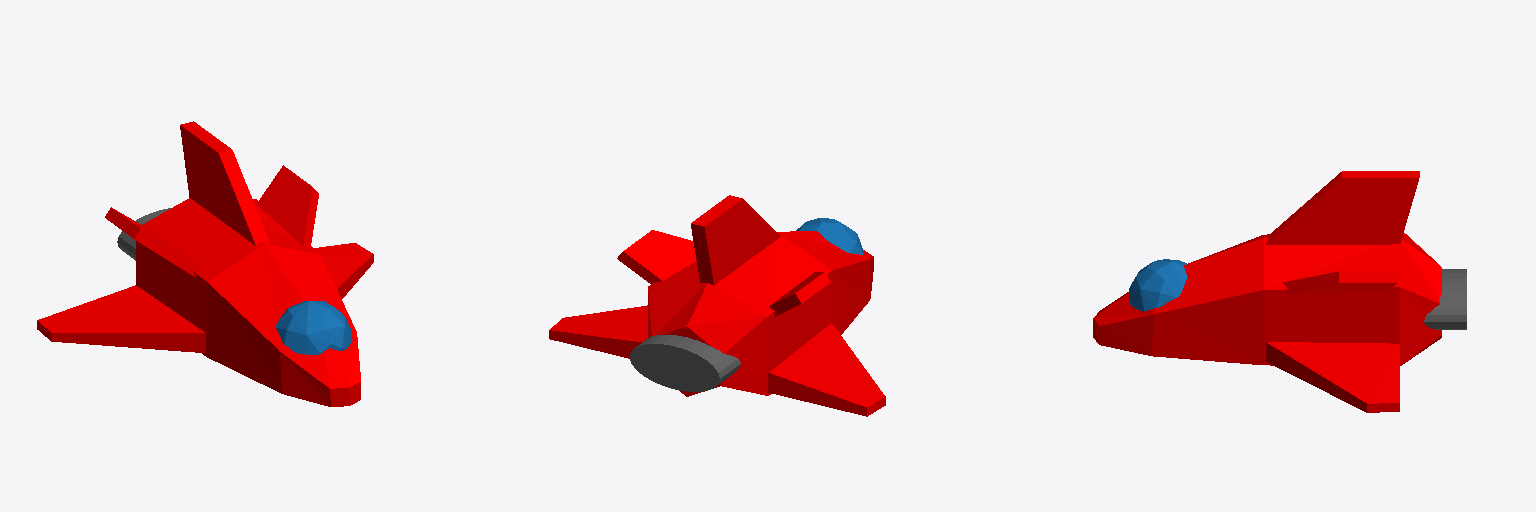
The model's file is spaceship.obj.
The picture shows the model from 3 angles: view 1: azimuth 30°, elevation 25°; view 2: azimuth 150°, elevation 25°; view 3: azimuth 270°, elevation 25°; orthographic projection.
Visible parts, largest first — view 1: spaceship, Icosahedron; view 2: spaceship, Cylinder, Icosahedron; view 3: spaceship, Icosahedron, Cylinder.
Boxes of the visible parts, x1,y1,x2,y2 form: spaceship: [37, 121, 373, 406]; Icosahedron: [276, 301, 352, 354]; spaceship: [549, 195, 885, 416]; Cylinder: [629, 335, 740, 391]; Icosahedron: [796, 218, 863, 254]; spaceship: [1093, 171, 1441, 412]; Icosahedron: [1129, 259, 1187, 311]; Cylinder: [1424, 269, 1466, 329].
Bounding box in the file's own units: 2.74 × 1.33 × 2.75.